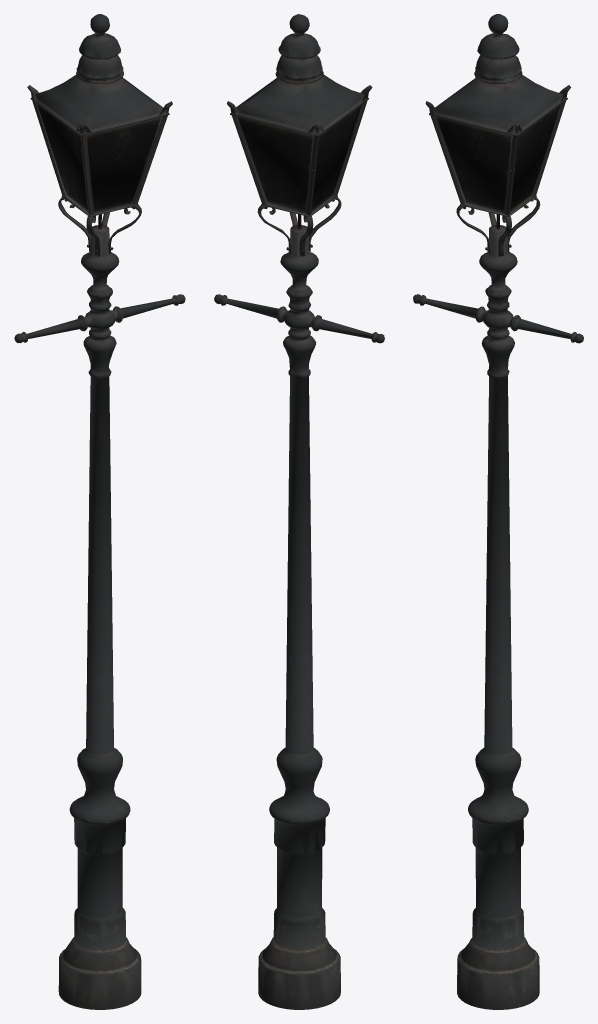
File: street_lamp_01.glb
The picture shows the model from 3 angles, left to right: view 1: azimuth 30°, elevation 25°; view 2: azimuth 150°, elevation 25°; view 3: azimuth 330°, elevation 25°; orthographic projection.
Visible parts, largest first — view 1: street_lamp_01; view 2: street_lamp_01; view 3: street_lamp_01.
Part boxes in pixels (x1=…): street_lamp_01: x1=14, y1=14, x2=185, y2=1009; street_lamp_01: x1=214, y1=14, x2=384, y2=1009; street_lamp_01: x1=413, y1=14, x2=583, y2=1009.
Bounding box in the file's own units: 0.7033 × 3.87 × 0.3858.
Materials: 2 (2 with a texture image).
